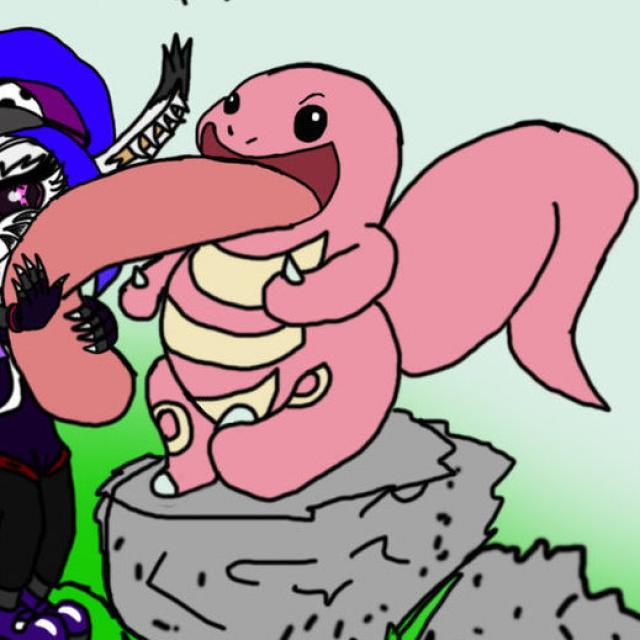Lickitung: (85, 71, 504, 492)
